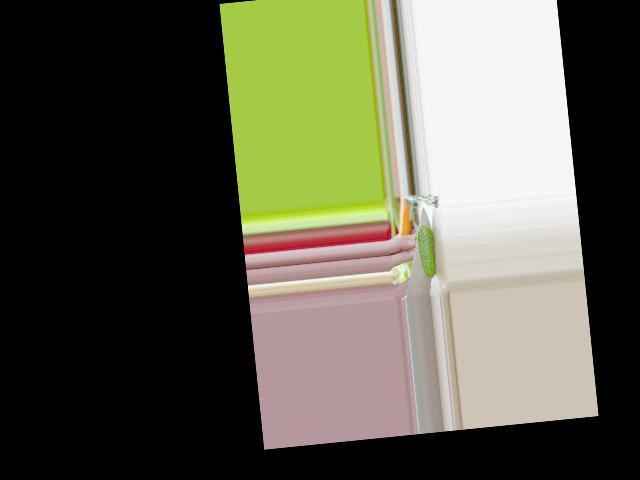cucumber: (416, 224, 437, 278)
